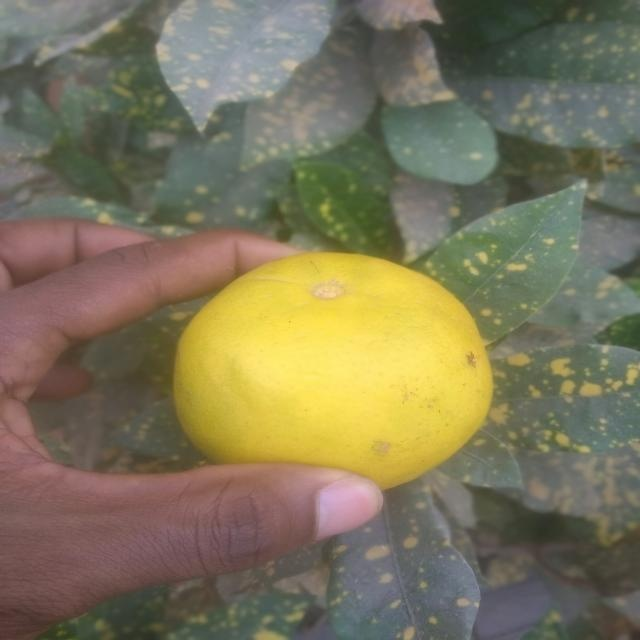agrume: (162, 239, 502, 490)
